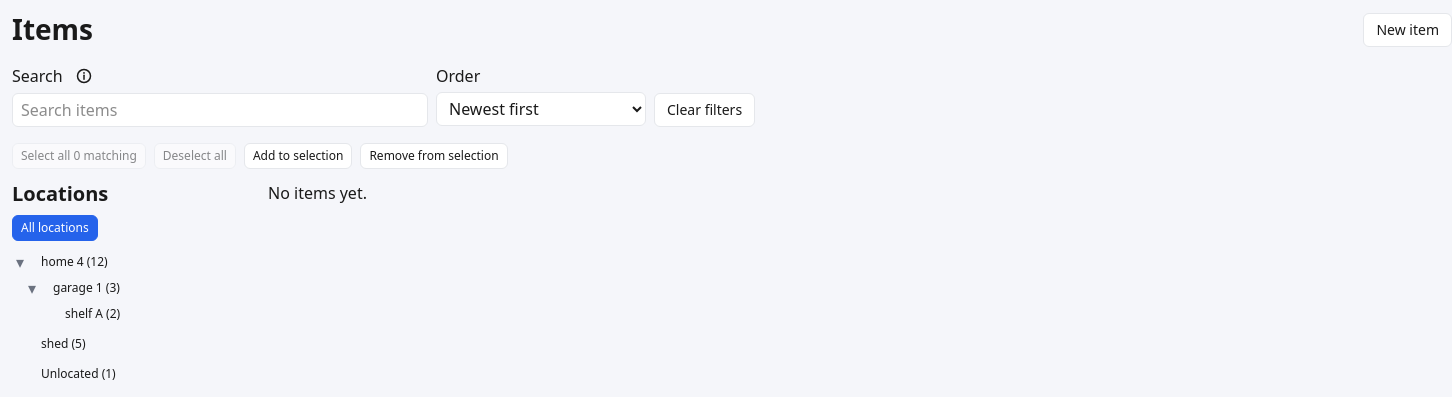
Test: the location facet tree › keeps chevron clicks as view state on top of the default
Click the 1st button "▾".
click(20, 262)  # box 12,250 -> 28,274
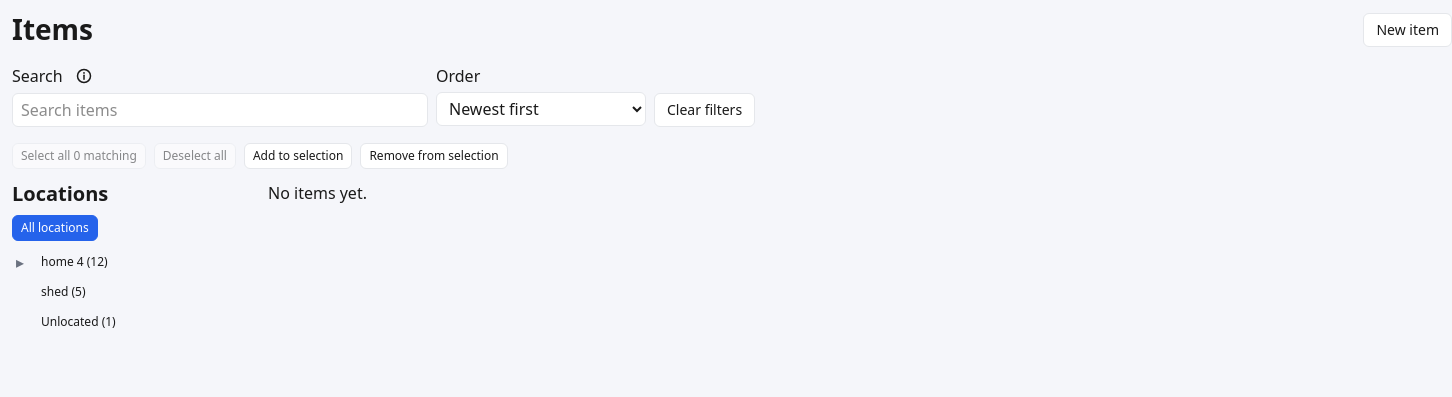
Now the button "garage 1 (3)" is gone
Click the button "▸".
click(20, 262)  # box 12,250 -> 28,274
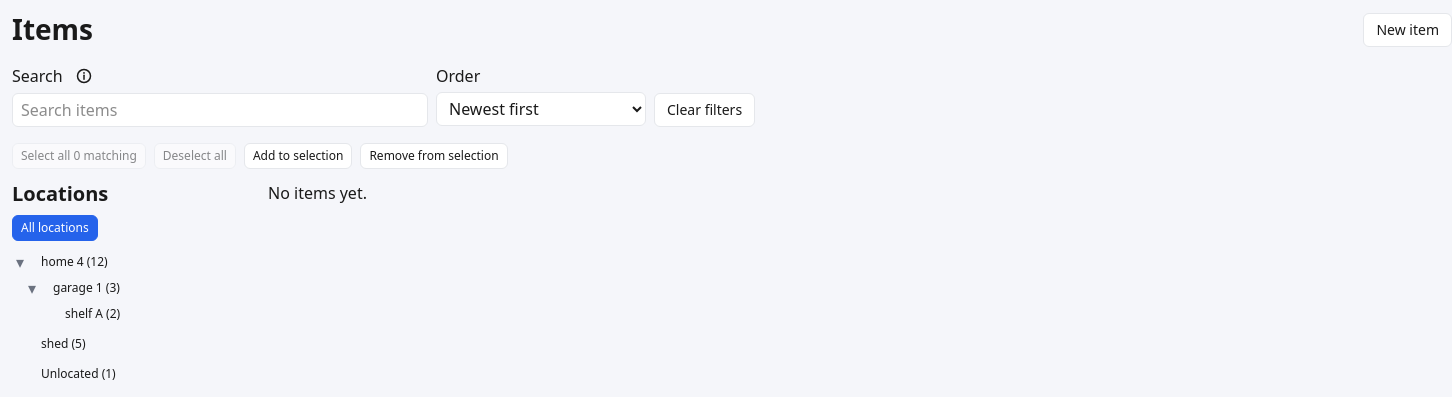
Now the button "garage 1 (3)" is shown, box 44,275 -> 129,301
